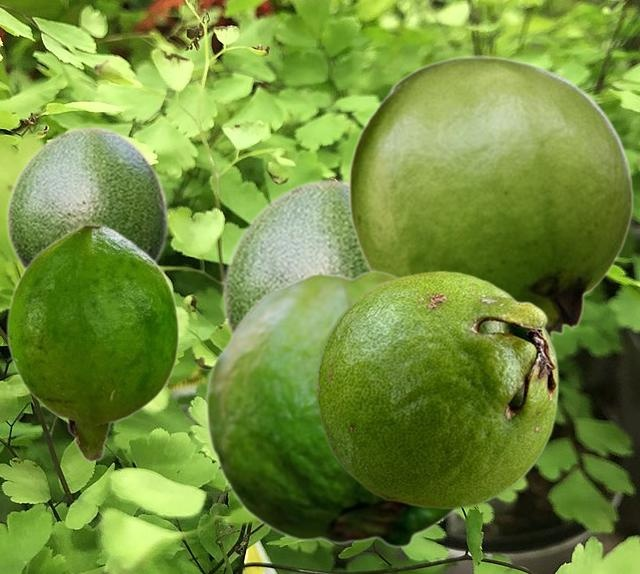guava: (347, 55, 633, 340), (205, 269, 457, 548), (315, 270, 558, 509), (6, 223, 179, 462), (221, 177, 367, 339), (5, 125, 169, 269)
